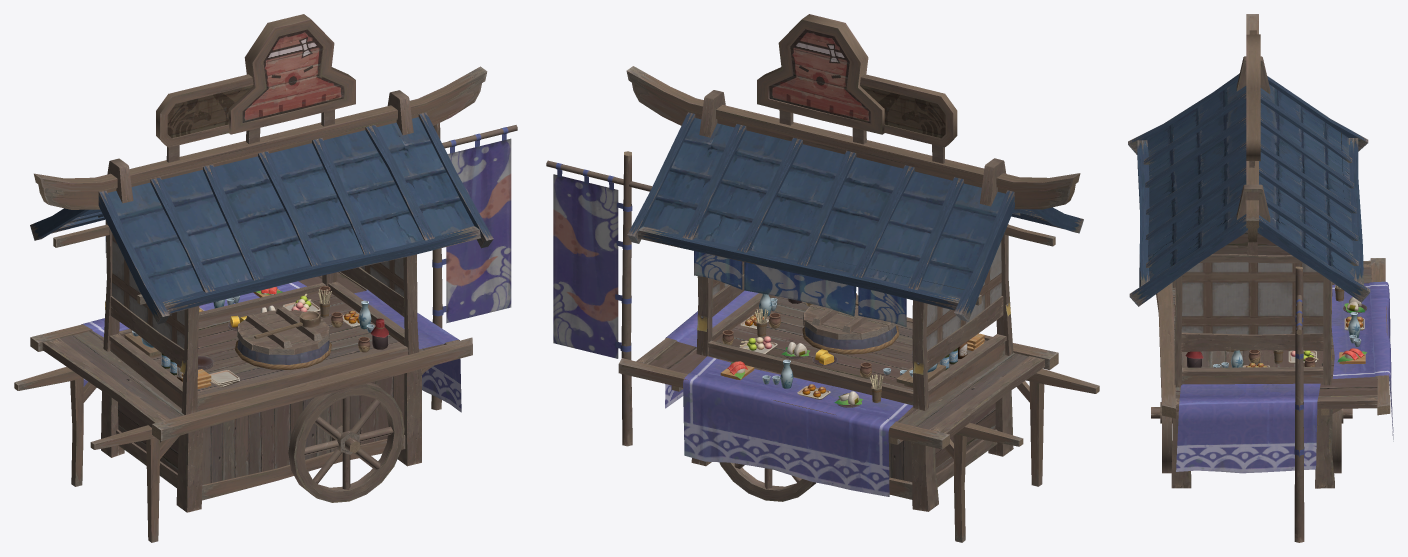
The model's file is Homeworld_Exterior_Dq_Build_TanWei_03_Lod0.fbx.
3 renders of one model, left to right at view 1: azimuth 30°, elevation 25°; view 2: azimuth 150°, elevation 25°; view 3: azimuth 270°, elevation 25°, orthographic. The views are drawn at different scales.
Parts seen in each view (by area): view 1: Area_Dq_Prop_Common_TanWei_02_Lod0, Area_Dq_Prop_Common_TanWei_02_01_Vo; view 2: Area_Dq_Prop_Common_TanWei_02_Lod0, Area_Dq_Prop_Common_TanWei_02_01_Vo; view 3: Area_Dq_Prop_Common_TanWei_02_Lod0.
Boxes of the visible parts, x1=… form: Area_Dq_Prop_Common_TanWei_02_Lod0: x1=14, y1=14, x2=517, y2=542; Area_Dq_Prop_Common_TanWei_02_01_Vo: x1=446, y1=138, x2=511, y2=323; Area_Dq_Prop_Common_TanWei_02_Lod0: x1=546, y1=14, x2=1099, y2=542; Area_Dq_Prop_Common_TanWei_02_01_Vo: x1=553, y1=174, x2=618, y2=358; Area_Dq_Prop_Common_TanWei_02_Lod0: x1=1128, y1=14, x2=1393, y2=542.
Size of what is drawn, in the model's own units: 4.6 by 3.91 by 2.24.
